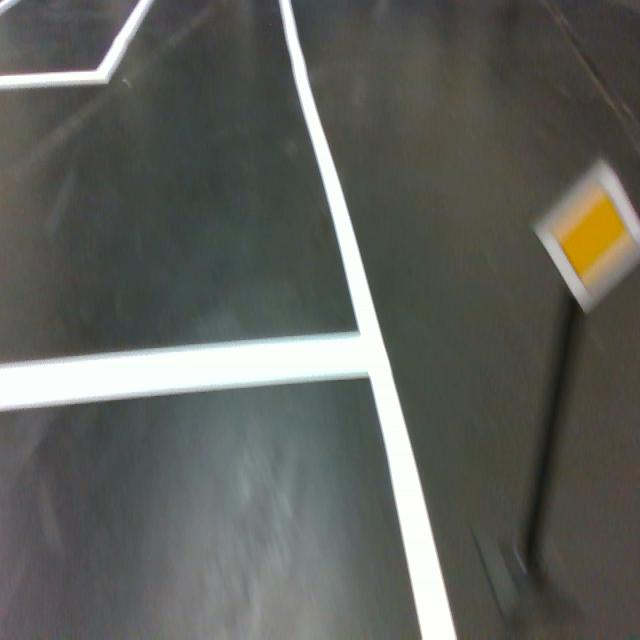priority-sign: (531, 155, 640, 315)
